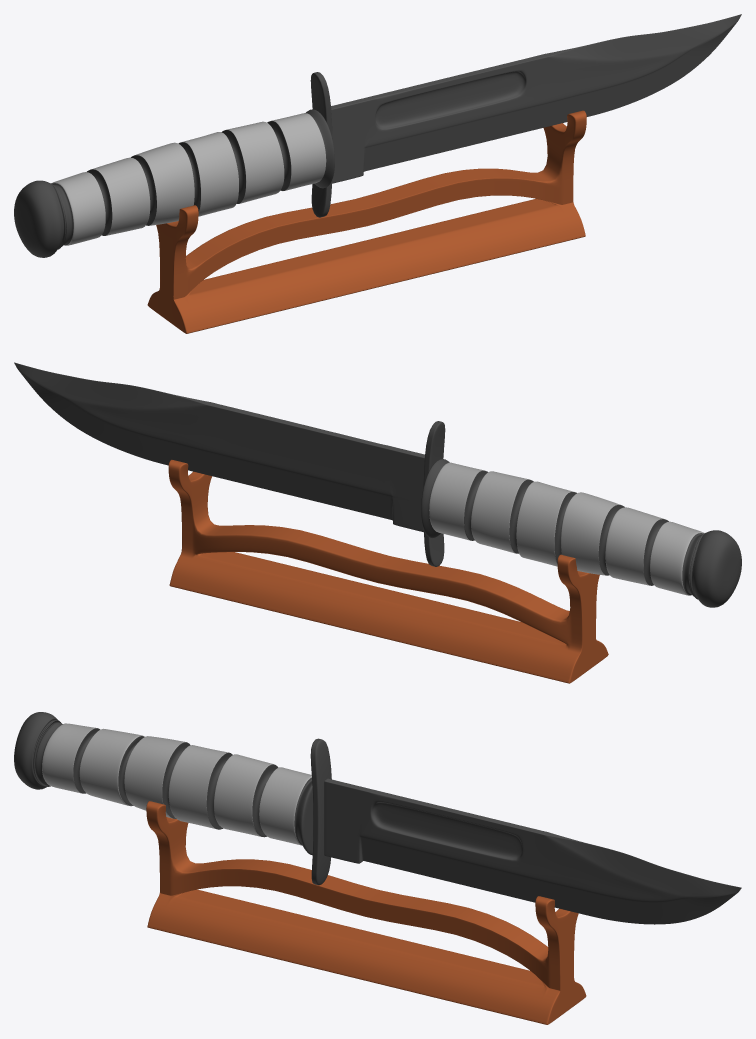
File: knife and holder.fbx
The picture shows the model from 3 angles, top to bottom: view 1: azimuth 30°, elevation 25°; view 2: azimuth 150°, elevation 25°; view 3: azimuth 330°, elevation 25°; orthographic projection.
Parts seen in each view (by area): view 1: pCube4, polySurface1; view 2: pCube4, polySurface1; view 3: pCube4, polySurface1.
Part boxes in pixels (<box>): pCube4: <box>14,14,741,257</box>; polySurface1: <box>147,110,586,333</box>; pCube4: <box>14,362,741,607</box>; polySurface1: <box>168,459,608,683</box>; pCube4: <box>14,712,741,924</box>; polySurface1: <box>146,801,586,1024</box>.
Bounding box in the file's own units: 25.6 × 7.19 × 2.55.
